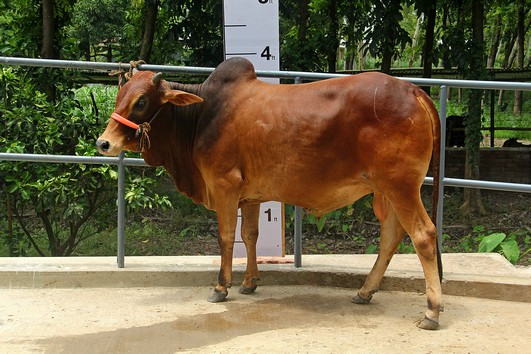cow: (90, 52, 462, 334)
